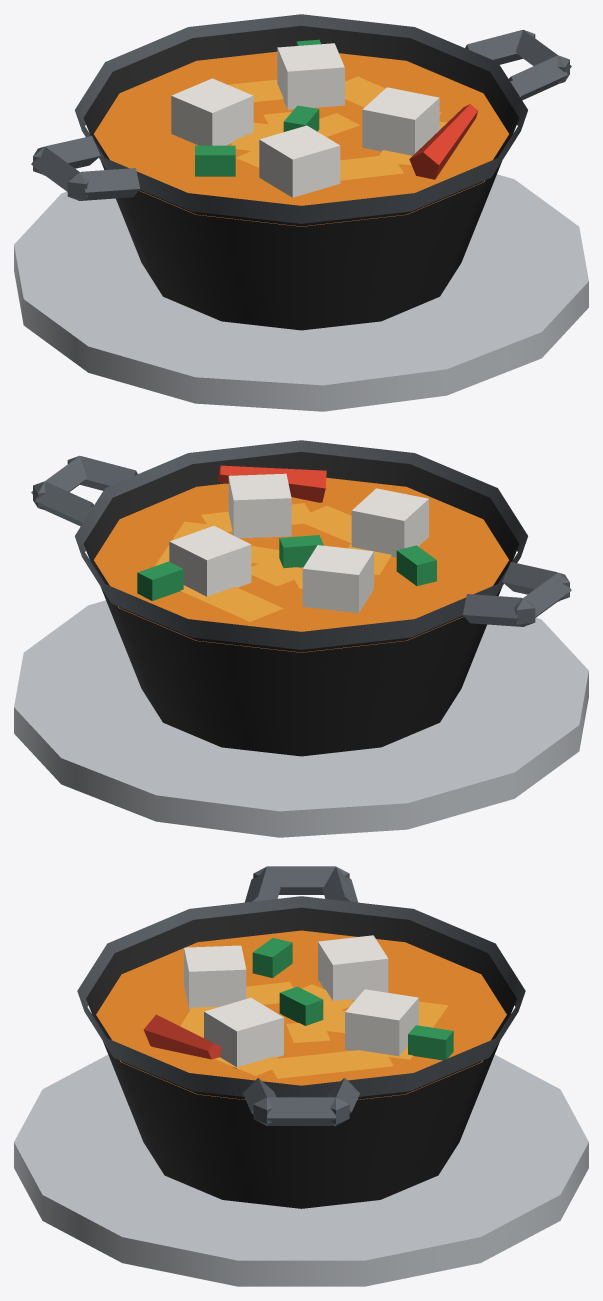
Rendered from pass_paneer.glb.
3 views of the same model, one above another, from view 1: azimuth 30°, elevation 25°; view 2: azimuth 150°, elevation 25°; view 3: azimuth 270°, elevation 25° (orthographic).
Visible parts, largest first — view 1: pass_paneer; view 2: pass_paneer; view 3: pass_paneer.
Part boxes in pixels (bbox=[...]): pass_paneer: bbox=[14, 14, 588, 411]; pass_paneer: bbox=[14, 440, 588, 837]; pass_paneer: bbox=[14, 866, 588, 1286].
Bounding box in the file's own units: 0.201 × 0.072 × 0.2.
1 material, 1 textured.
